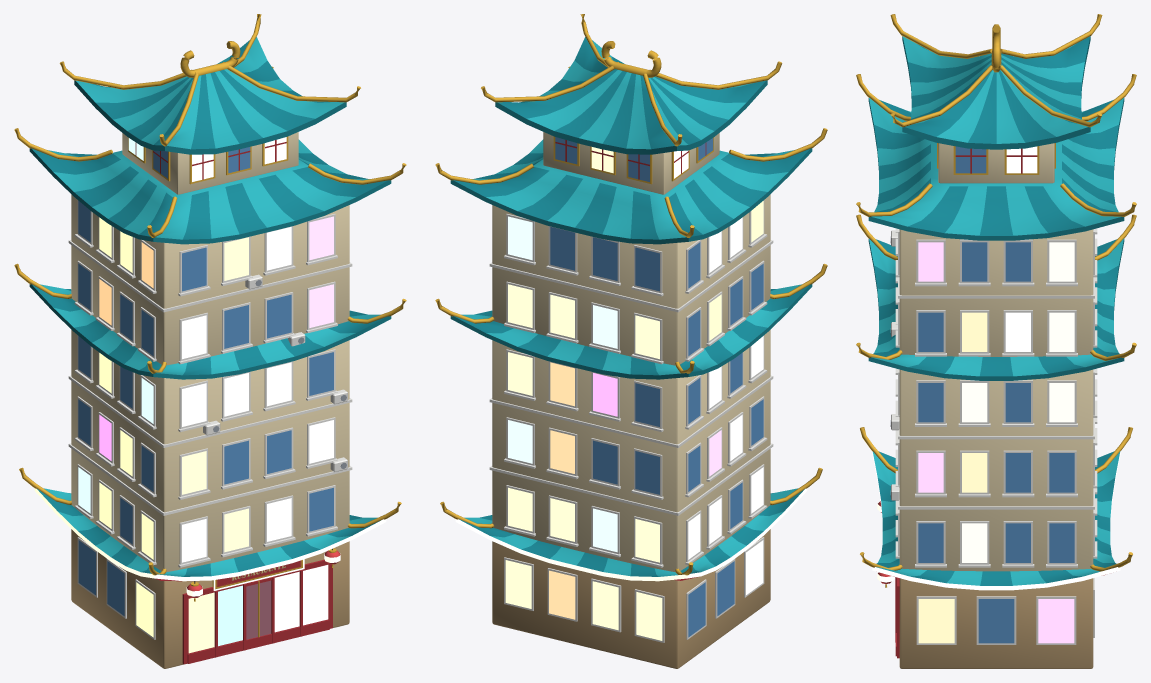
Rendered from edificio_beirais_jade.glb.
3 renders of one model, left to right at view 1: azimuth 30°, elevation 25°; view 2: azimuth 150°, elevation 25°; view 3: azimuth 270°, elevation 25°, orthographic. The views are drawn at different scales.
Visible parts, largest first — view 1: edificio_beirais_jade; view 2: edificio_beirais_jade; view 3: edificio_beirais_jade.
Boxes of the visible parts, x1,y1,x2,y2 form: edificio_beirais_jade: [14, 14, 406, 668]; edificio_beirais_jade: [435, 14, 827, 668]; edificio_beirais_jade: [856, 14, 1136, 668].
Bounding box in the file's own units: 12.76 × 26.74 × 11.58.
10 materials, 2 textured.
